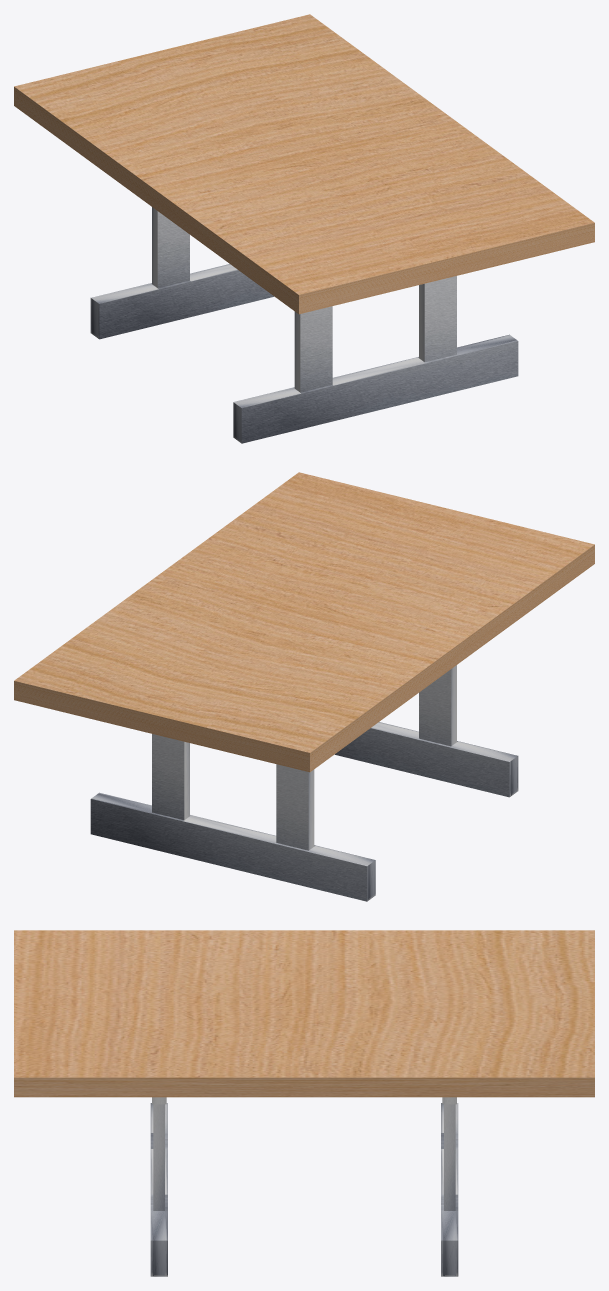
The model's file is MesaCentroMac.FBX.
3 views of the same model, one above another, from view 1: azimuth 30°, elevation 25°; view 2: azimuth 150°, elevation 25°; view 3: azimuth 270°, elevation 25° (orthographic).
Visible parts, largest first — view 1: Tabla, Pata1, Pata2; view 2: Tabla, Pata2, Pata1; view 3: Tabla, Pata1, Pata2.
Part boxes in pixels (x1,y1,x2,y2): Tabla: (14,14,594,314); Pata1: (233,276,518,443); Pata2: (90,207,273,339); Tabla: (14,472,594,772); Pata2: (90,734,375,901); Pata1: (335,665,518,797); Tabla: (14,930,594,1097); Pata1: (150,1097,167,1276); Pata2: (441,1097,458,1276).
Bounding box in the file's own units: 47.24 × 30.51 × 78.74.
2 materials, 2 textured.
